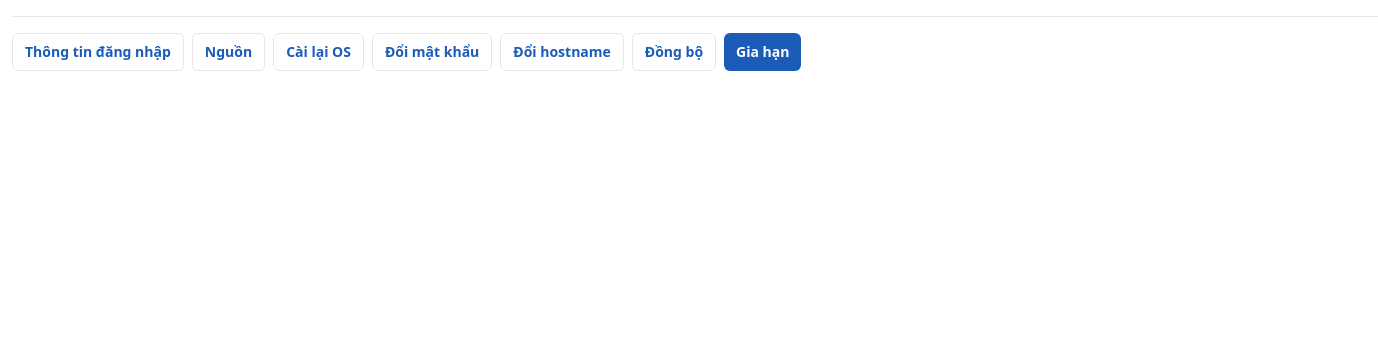
Scenario: VpsServiceActions › does not enable renewal when the public plan is unavailable
The width and height of the screenshot is (1378, 356).
Click the button "Gia hạn" at (763, 52), box [724, 33, 802, 71]
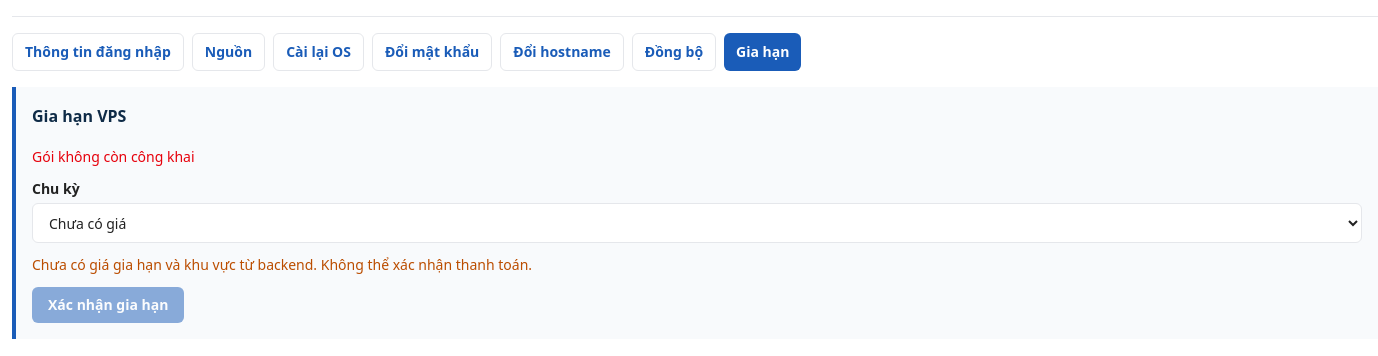
Now the message reads "Gói không còn công khai", box [32, 147, 195, 166]
Now the button "Xác nhận gia hạn" is disabled, box [32, 287, 184, 323]
